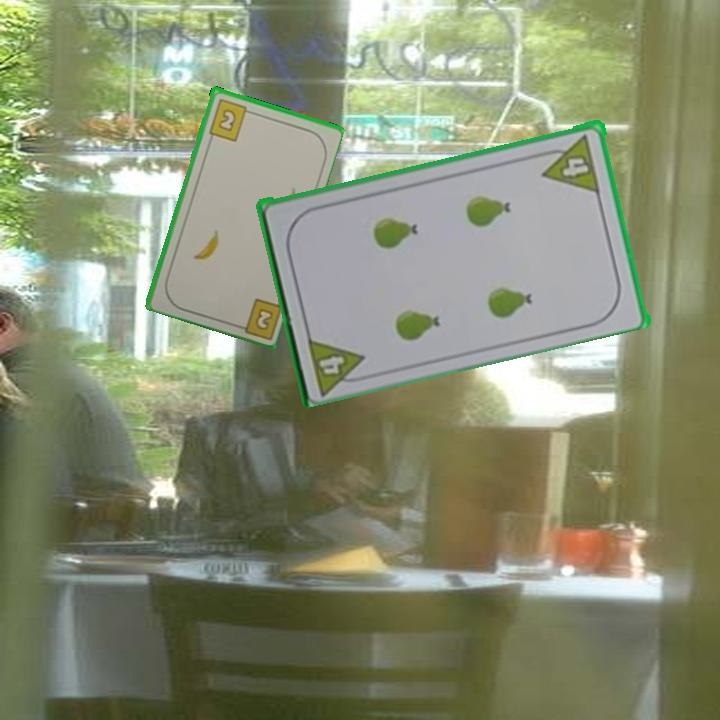2b: (205, 95, 255, 144), (231, 294, 284, 340)
4p: (304, 331, 373, 396), (536, 130, 603, 195)
